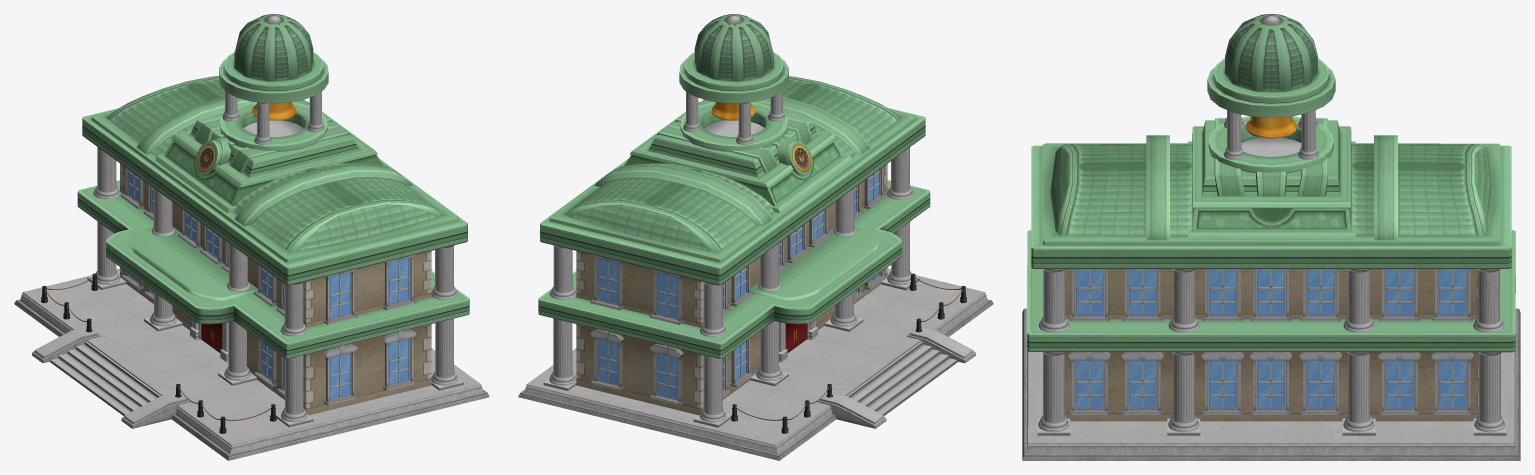
The model's file is e_cityhall_cityhall_lev3.glb.
3 views of the same model, side by side, from view 1: azimuth 30°, elevation 25°; view 2: azimuth 150°, elevation 25°; view 3: azimuth 270°, elevation 25° (orthographic). The views are drawn at different scales.
Visible parts, largest first — view 1: e_cityhall_cityhall_lev3; view 2: e_cityhall_cityhall_lev3; view 3: e_cityhall_cityhall_lev3.
Part boxes in pixels (x1,y1,x2,y2): e_cityhall_cityhall_lev3: (14,14,489,460); e_cityhall_cityhall_lev3: (518,14,993,460); e_cityhall_cityhall_lev3: (1022,14,1520,460).
Size of the model in its own units: 47.07 by 49.33 by 58.12.
1 material, 1 textured.
